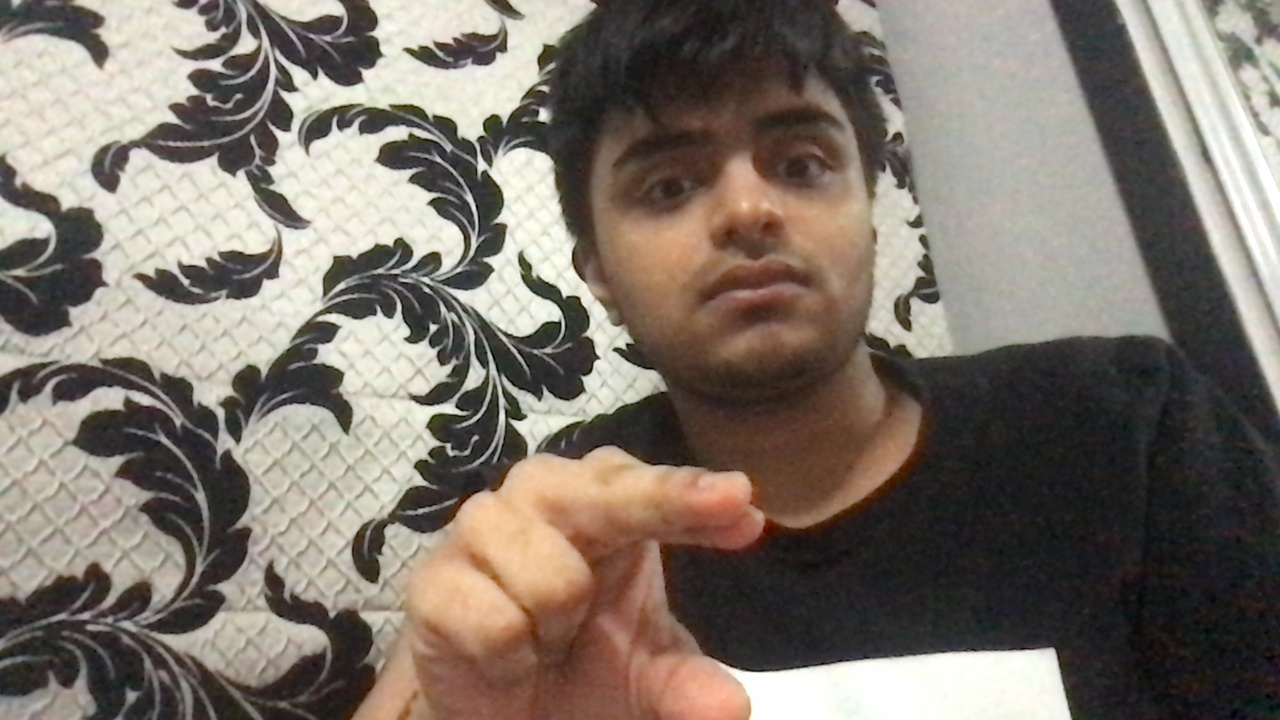No: (398, 434, 766, 720)
